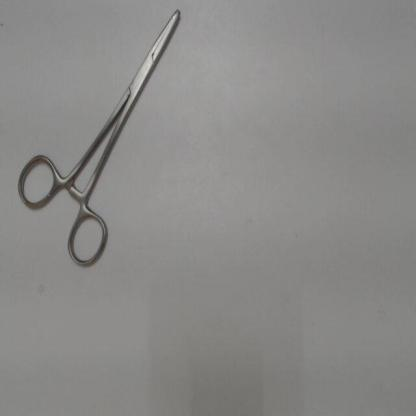Mayo Needle Holder: (9, 4, 191, 278)
